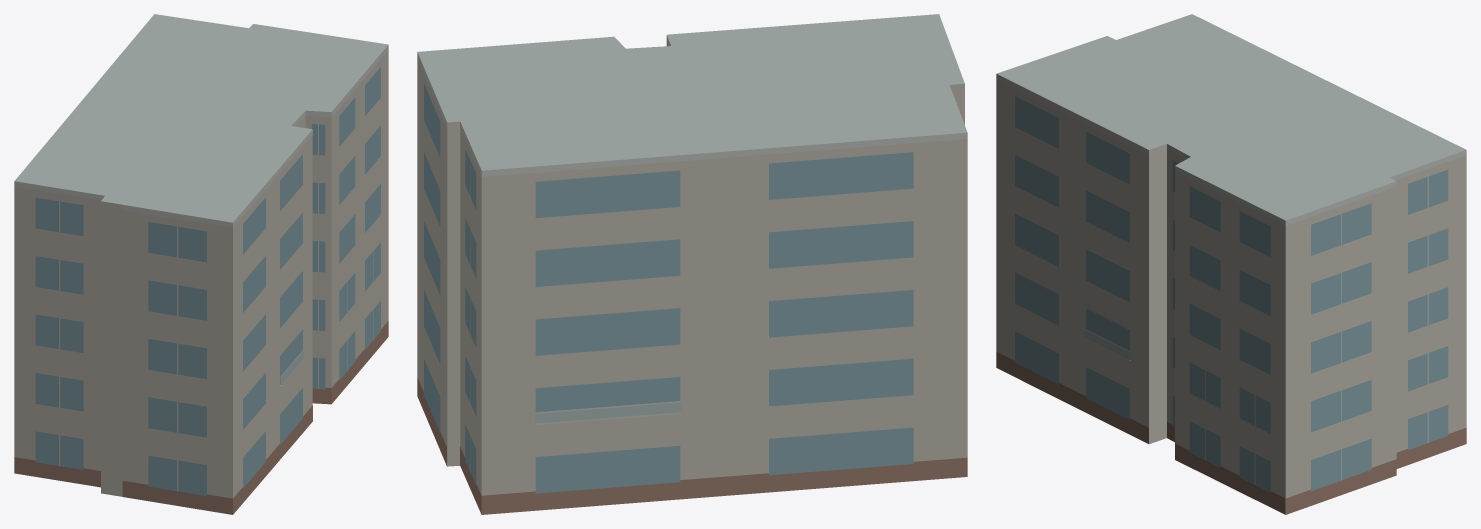
The model's file is survey-upis-32849737.glb.
The picture shows the model from 3 angles, left to right: view 1: azimuth 30°, elevation 25°; view 2: azimuth 150°, elevation 25°; view 3: azimuth 270°, elevation 25°; orthographic projection. The views are drawn at different scales.
Parts seen in each view (by area): view 1: survey-upis-32849737.tmp; view 2: survey-upis-32849737.tmp; view 3: survey-upis-32849737.tmp.
Boxes of the visible parts, left/top/right/bottom form: survey-upis-32849737.tmp: left=14, top=14, right=388, bottom=514; survey-upis-32849737.tmp: left=417, top=14, right=967, bottom=514; survey-upis-32849737.tmp: left=996, top=14, right=1466, bottom=514.
Size of the model in its own units: 20.65 by 13.7 by 19.85.
